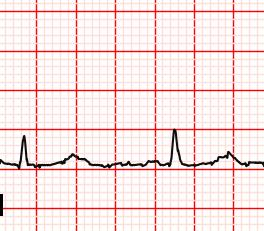Poor R Progression: (168, 125, 183, 168), (16, 132, 31, 172)
